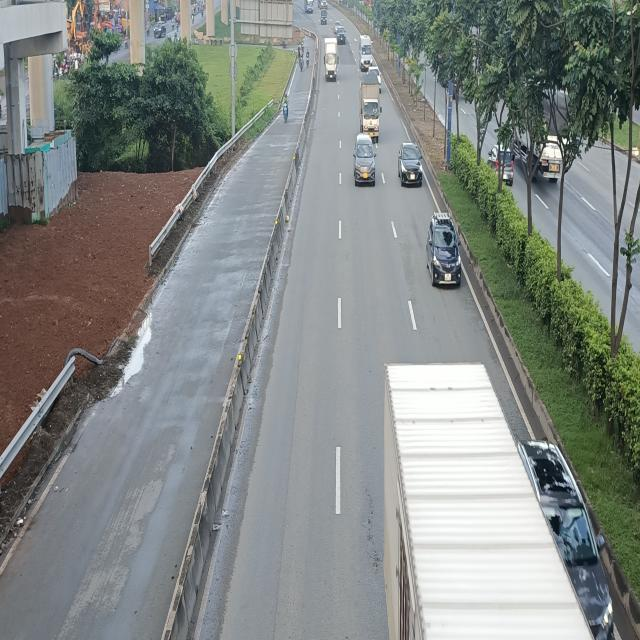car: (427, 210, 461, 286), (352, 133, 377, 185), (399, 142, 425, 187)
container: (381, 363, 610, 640)
truck: (359, 79, 381, 141), (324, 38, 340, 82)
van: (359, 36, 373, 72)
